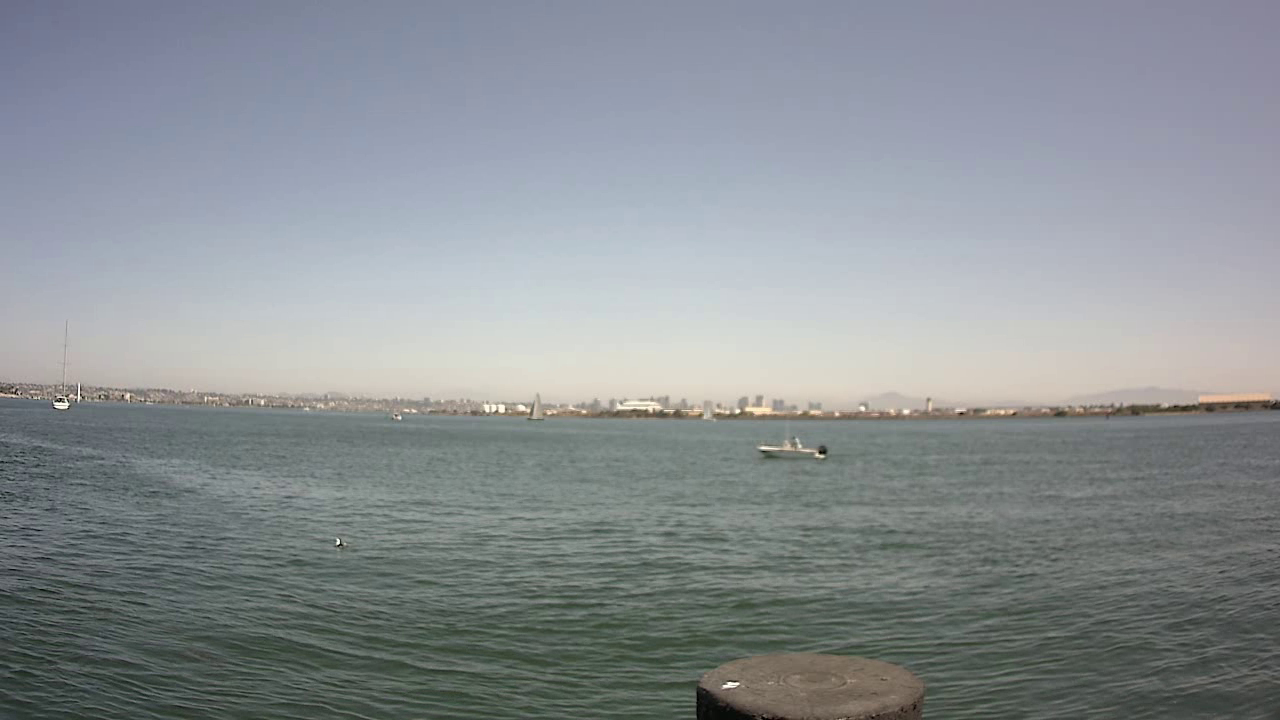target: (751, 418, 837, 468)
